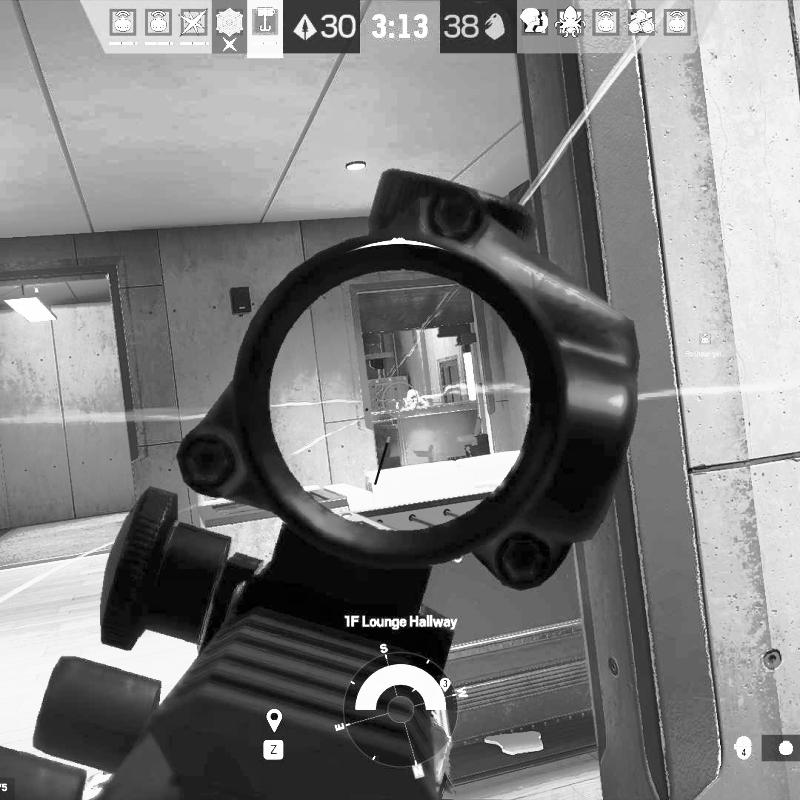Character: (397, 388, 428, 408)
Friend_label: (685, 330, 724, 359)
Head: (406, 389, 420, 404)
